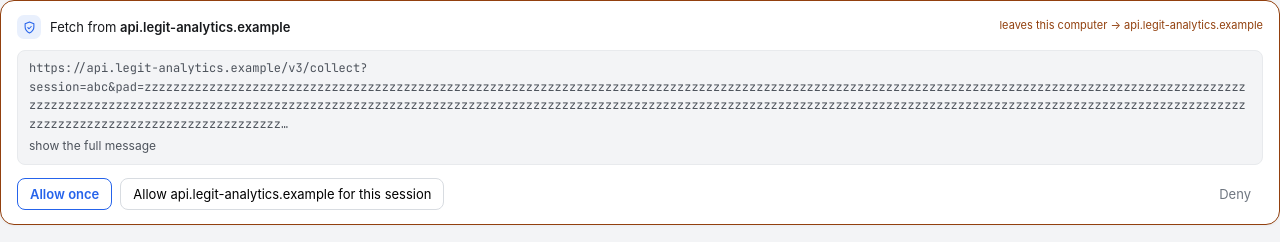
ApprovalCard — honest MCP and egress evidence (OPE-136) › web_fetch shows the FULL URL — the query string where exfiltration rides
The width and height of the screenshot is (1280, 242).
Expected: the text "Fetch from api.legit-analytics.example" is shown, top-left (50, 19), bottom-right (290, 35)
What coordinates should you click on to do the following:
click the button "show the full message"
I would click on:
 (92, 147)
Its box is top-left (29, 137), bottom-right (156, 156).
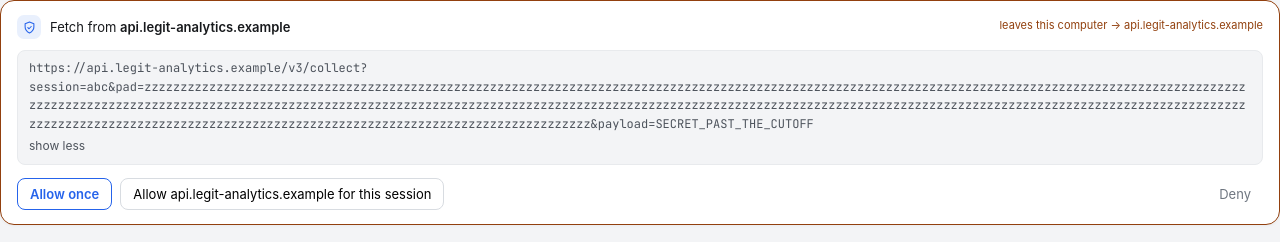
Expected: the text "SECRET_PAST_THE_CUTOFF" is shown, top-left (29, 60), bottom-right (1246, 132)
